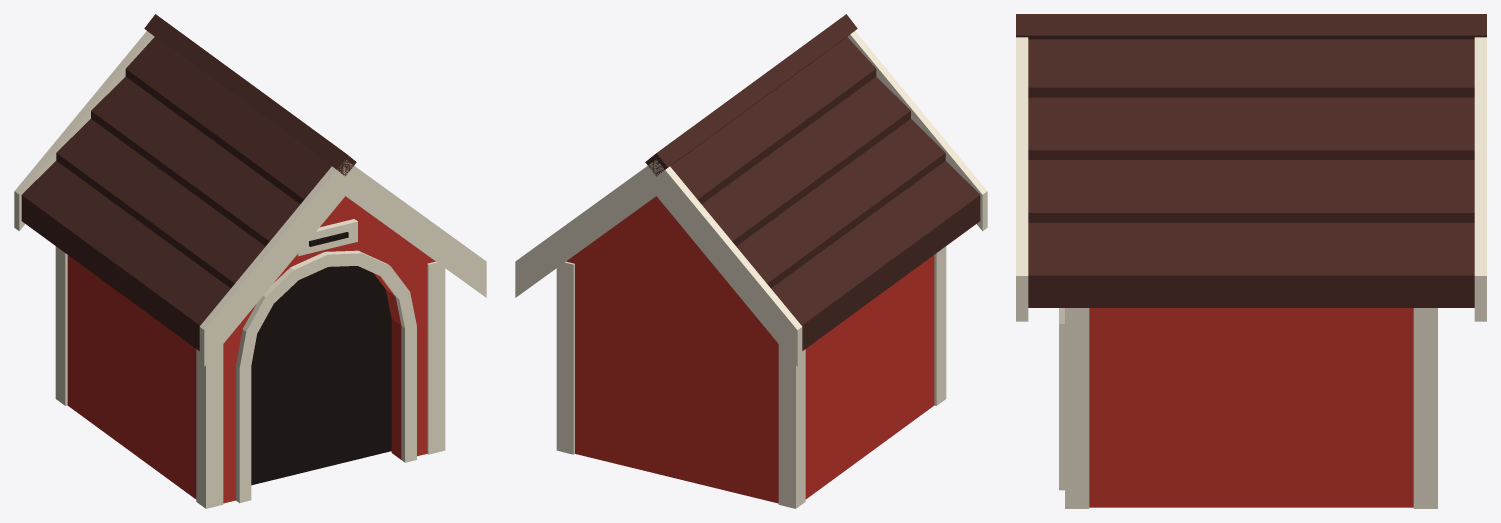
The model's file is dogHouse.glb.
The picture shows the model from 3 angles, left to right: view 1: azimuth 30°, elevation 25°; view 2: azimuth 150°, elevation 25°; view 3: azimuth 270°, elevation 25°; orthographic projection. The views are drawn at different scales.
Visible parts, largest first — view 1: roof_R, door_hole, wall_R, rake_F, wall_front, door_frame, ridge_cap, corner_FR, corner_FL, rake_B, corner_BR, name_plate; view 2: roof_R, wall_back, wall_R, rake_B, ridge_cap, corner_BR, corner_BL, rake_F, corner_FR; view 3: roof_L, wall_L, ridge_cap, corner_FL, corner_BL, rake_F, rake_B, door_frame, wall_front, wall_back.
Part boxes in pixels (x1,y1,x2,y2): roof_R: [21, 37, 331, 350]; door_hole: [251, 266, 391, 485]; wall_R: [68, 256, 196, 499]; rake_F: [199, 160, 486, 366]; wall_front: [223, 196, 435, 503]; door_frame: [236, 250, 416, 503]; ridge_cap: [144, 14, 356, 175]; corner_FR: [196, 344, 223, 508]; corner_FL: [427, 261, 445, 454]; rake_B: [14, 31, 154, 231]; corner_BR: [55, 246, 67, 405]; name_plate: [297, 219, 357, 256]; roof_R: [670, 37, 980, 350]; wall_back: [566, 196, 778, 503]; wall_R: [805, 256, 933, 499]; rake_B: [515, 160, 802, 366]; ridge_cap: [645, 14, 857, 176]; corner_BR: [778, 344, 805, 508]; corner_BL: [556, 261, 574, 454]; rake_F: [847, 31, 987, 231]; corner_FR: [934, 246, 946, 405]; roof_L: [1028, 39, 1474, 307]; wall_L: [1092, 308, 1410, 507]; ridge_cap: [1016, 14, 1486, 39]; corner_FL: [1065, 308, 1089, 508]; corner_BL: [1413, 308, 1437, 508]; rake_F: [1016, 37, 1028, 321]; rake_B: [1474, 37, 1486, 321]; door_frame: [1059, 308, 1064, 490]; wall_front: [1089, 308, 1092, 507]; wall_back: [1410, 308, 1413, 507].
Size of the model in its own units: 1.32 by 1.53 by 1.54.
